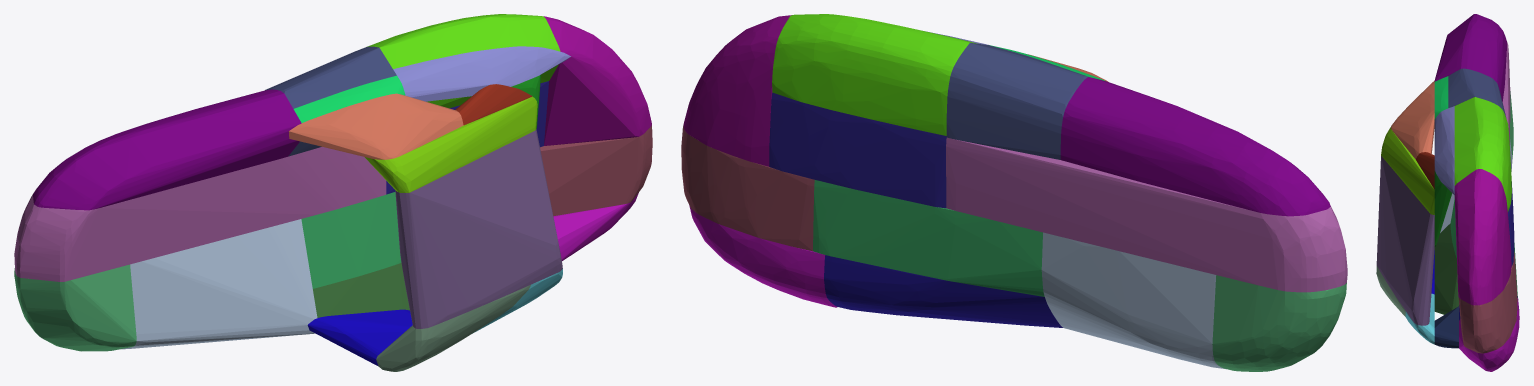
The model's file is coacd_collision.obj.
The picture shows the model from 3 angles, left to right: view 1: azimuth 30°, elevation 25°; view 2: azimuth 150°, elevation 25°; view 3: azimuth 270°, elevation 25°; orthographic projection. The views are drawn at different scales.
Visible parts, largest first — view 1: geometry_7, geometry_1, geometry_6, geometry_11, geometry_14, geometry_3, geometry_9, geometry_13, geometry_10, geometry_17, geometry_4, geometry_12 (+9 smaller); view 2: geometry_7, geometry_11, geometry_17, geometry_10, geometry_6, geometry_18, geometry_16, geometry_13, geometry_3, geometry_14, geometry_20, geometry_22; view 3: geometry_1, geometry_14, geometry_17, geometry_11, geometry_13, geometry_9, geometry_4, geometry_19, geometry_12, geometry_16, geometry_22, geometry_21 (+10 smaller).
Boxes of the visible parts, bbox=[...] form: geometry_7: bbox=[14, 147, 386, 281]; geometry_1: bbox=[395, 128, 562, 328]; geometry_6: bbox=[121, 219, 317, 349]; geometry_11: bbox=[33, 89, 301, 210]; geometry_14: bbox=[543, 16, 651, 145]; geometry_3: bbox=[14, 264, 136, 351]; geometry_9: bbox=[288, 93, 463, 159]; geometry_13: bbox=[540, 125, 652, 216]; geometry_10: bbox=[301, 192, 401, 288]; geometry_17: bbox=[367, 14, 560, 108]; geometry_4: bbox=[364, 96, 537, 192]; geometry_12: bbox=[393, 46, 570, 101]; geometry_7: bbox=[946, 137, 1347, 292]; geometry_11: bbox=[1060, 77, 1330, 216]; geometry_17: bbox=[772, 14, 976, 135]; geometry_10: bbox=[813, 180, 1044, 296]; geometry_6: bbox=[1041, 232, 1226, 369]; geometry_18: bbox=[769, 92, 946, 208]; geometry_16: bbox=[946, 43, 1088, 159]; geometry_13: bbox=[681, 125, 814, 251]; geometry_3: bbox=[1212, 275, 1346, 371]; geometry_14: bbox=[683, 15, 791, 166]; geometry_20: bbox=[824, 255, 1062, 327]; geometry_22: bbox=[689, 205, 837, 307]; geometry_1: bbox=[1376, 156, 1434, 325]; geometry_14: bbox=[1454, 169, 1511, 305]; geometry_17: bbox=[1454, 97, 1511, 211]; geometry_11: bbox=[1434, 14, 1506, 101]; geometry_13: bbox=[1458, 252, 1517, 353]; geometry_9: bbox=[1391, 81, 1434, 159]; geometry_4: bbox=[1381, 126, 1434, 214]; geometry_19: bbox=[1434, 223, 1458, 314]; geometry_12: bbox=[1434, 106, 1454, 194]; geometry_16: bbox=[1448, 68, 1506, 117]; geometry_22: bbox=[1459, 298, 1519, 371]; geometry_21: bbox=[1434, 306, 1458, 348].
Size of the model in its own units: 278 by 118 by 71.46.
